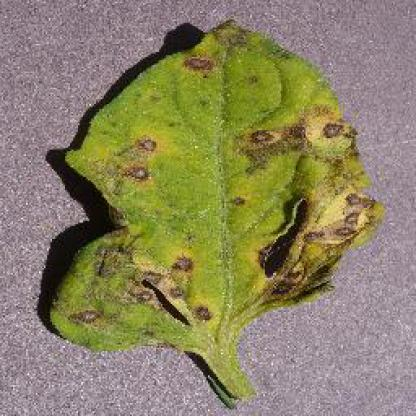bad leaf: (48, 19, 400, 406)
